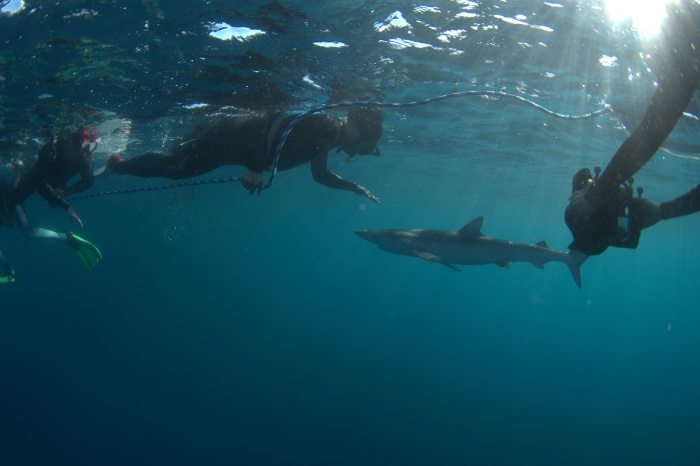Azul: (145, 193, 448, 315), (346, 202, 615, 299)
